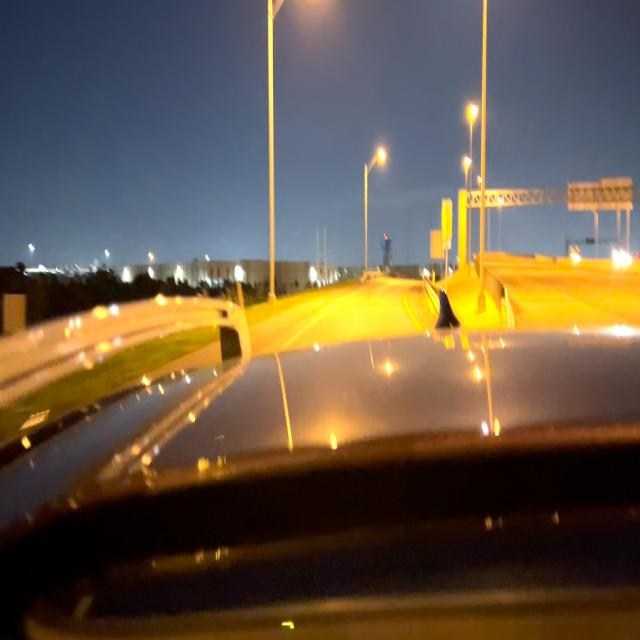back-of-sign: (567, 182, 600, 211), (602, 179, 632, 209), (442, 200, 452, 249), (432, 229, 445, 258)
